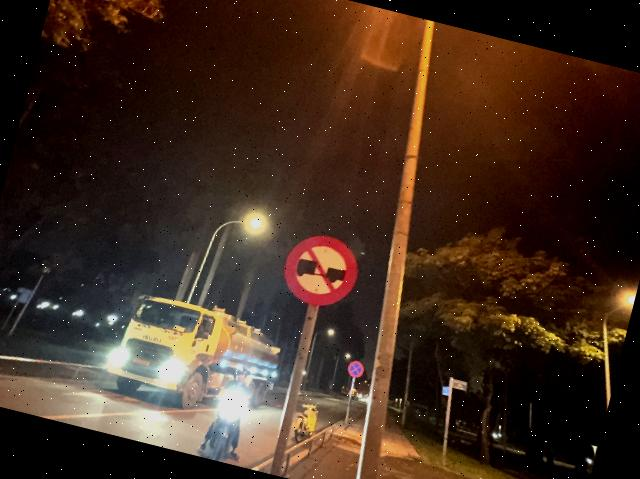cam-xe-somi-romooc: (276, 227, 366, 314)
